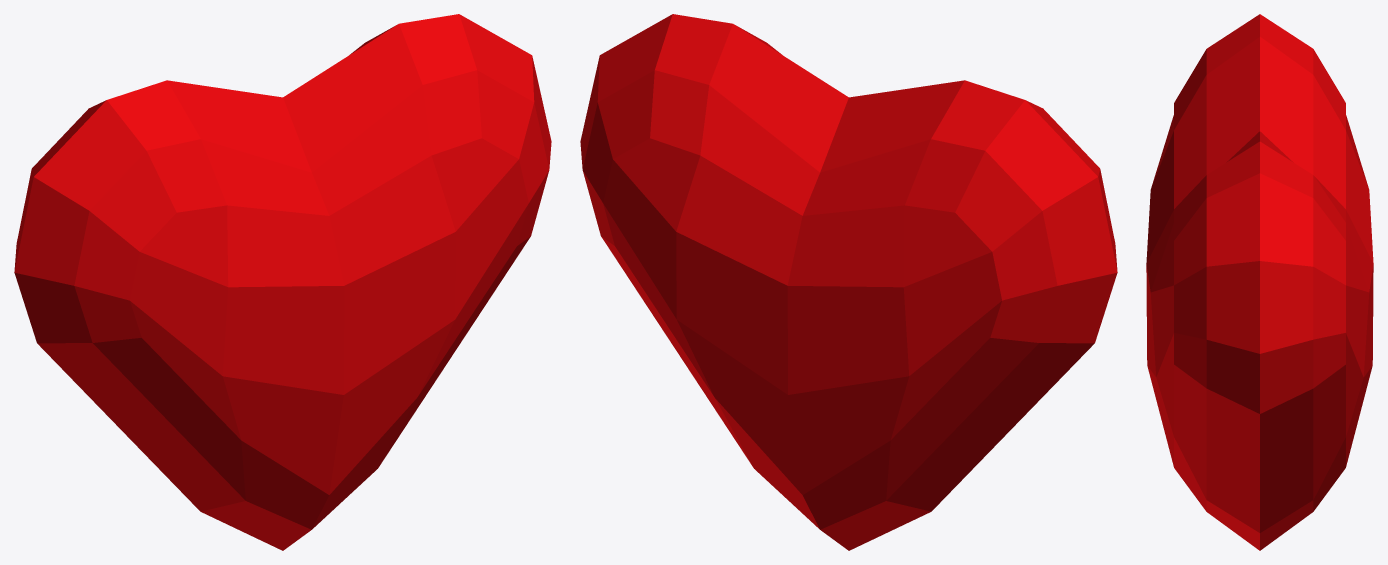
File: heart red.fbx
3 views of the same model, side by side, from view 1: azimuth 30°, elevation 25°; view 2: azimuth 150°, elevation 25°; view 3: azimuth 270°, elevation 25° (orthographic). The views are drawn at different scales.
Parts seen in each view (by area): view 1: heart red; view 2: heart red; view 3: heart red.
Boxes of the visible parts, <box> form: heart red: <box>14,14,551,550</box>; heart red: <box>580,14,1117,550</box>; heart red: <box>1146,14,1373,550</box>.
Size of the model in its own units: 0.5936 by 0.527 by 0.2348.
